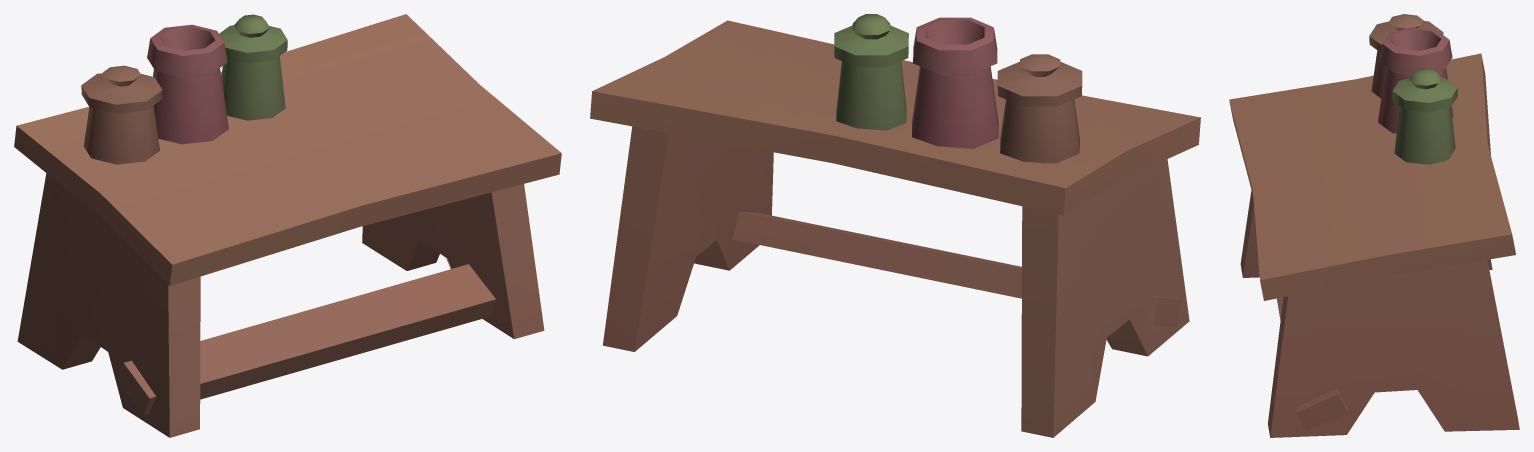
File: Table.glb
3 renders of one model, left to right at view 1: azimuth 30°, elevation 25°; view 2: azimuth 150°, elevation 25°; view 3: azimuth 270°, elevation 25°, orthographic. The views are drawn at different scales.
Parts seen in each view (by area): view 1: Table_Jars; view 2: Table_Jars; view 3: Table_Jars.
Boxes of the visible parts, x1=… form: Table_Jars: x1=14, y1=14, x2=561, y2=437; Table_Jars: x1=590, y1=14, x2=1200, y2=437; Table_Jars: x1=1229, y1=14, x2=1519, y2=437.
Bounding box in the file's own units: 2.12 × 1.44 × 1.38.
Materials: 1 (1 with a texture image).
